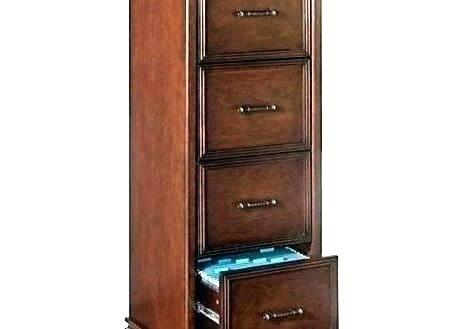cabinet_door: (205, 64, 310, 148), (207, 161, 311, 240), (204, 0, 311, 57), (232, 273, 333, 329)
handle: (262, 307, 306, 324), (235, 198, 280, 214), (237, 102, 281, 118), (234, 7, 278, 22)
